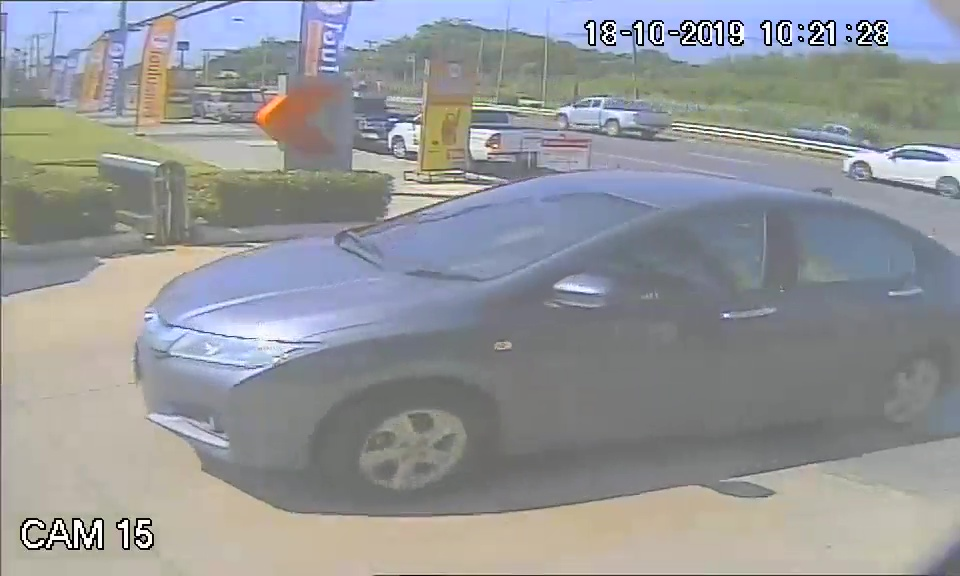sedan: (133, 167, 958, 482)
